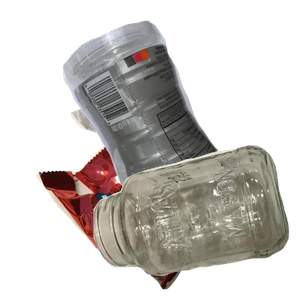glass: (91, 143, 300, 300)
paper: (68, 66, 215, 197)
plastic: (60, 18, 300, 198)
trash: (34, 136, 253, 300)
